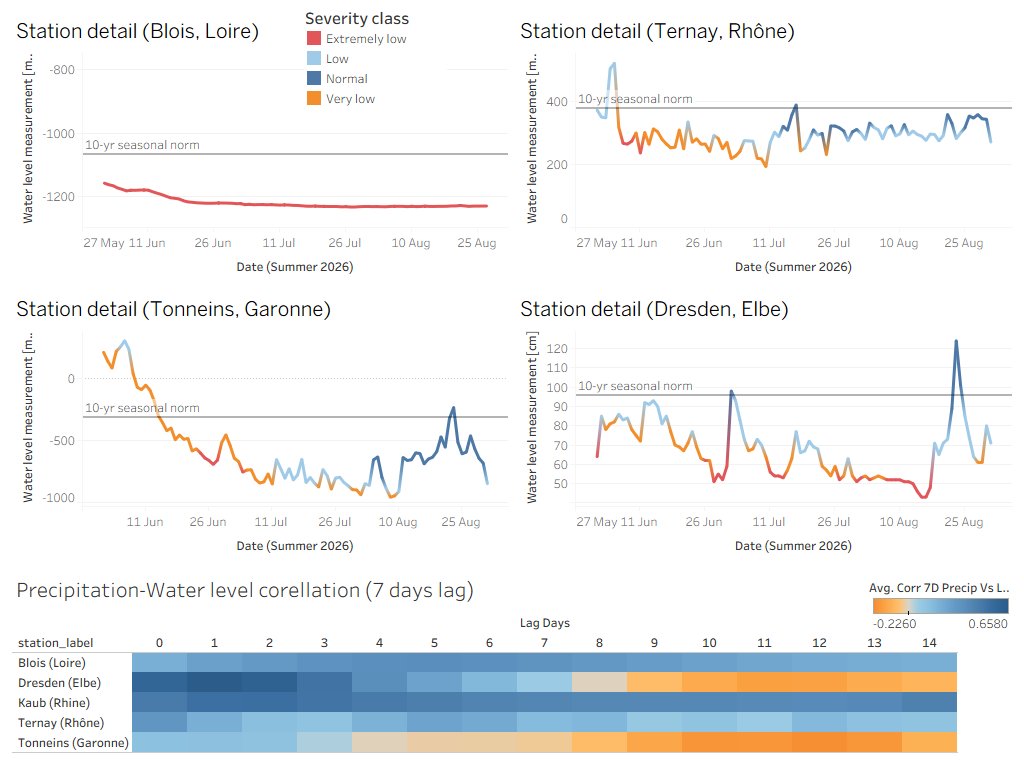

The dashboard page shown, as its layout file describes it:
{"tool":"tableau","page":{"name":"Stations and correlations","canvas":[1024,768],"ordinal":1},"visuals":[{"type":"legend","title":"Station detail (Ternay, Rhône)","param":"[federated.1kkefuv1phx1bi12ys0ko0iin6ix].[attr:severity_class:nk]","box":[304.1,4.8,143.4,105.6]},{"type":"worksheet","title":"Station detail (Blois, Loire)","mark":"Line","rows":["value"],"cols":["date"],"box":[8,8,504,278.5]},{"type":"worksheet","title":"Station detail (Ternay, Rhône)","mark":"Line","rows":["value"],"cols":["date"],"box":[512,8,504,278.5]},{"type":"worksheet","title":"Station detail (Tonneins, Garonne)","mark":"Line","rows":["value"],"cols":["date"],"box":[8,286.5,504,278.5]},{"type":"worksheet","title":"Station detail (Dresden, Elbe)","mark":"Line","rows":["value"],"cols":["date"],"box":[512,286.5,504,278.5]},{"type":"worksheet","title":"precip-w_level correlation","mark":"Automatic","rows":["Calculation_0720775307001856"],"cols":["lag_days"],"box":[8,565,1008,195]},{"type":"legend","title":"precip-w_level correlation","param":"[federated.1kkefuv1phx1bi12ys0ko0iin6ix].[avg:Calculation_2998689551704066:qk]","box":[869,575,144,55]}]}

Visuals, with their boxes in screenshot pixels (x1, y1, x2, y2), scaled from the page's 1024x768 canvas onto the 1024x768 screenshot:
"Station detail (Ternay, Rhône)" legend: [x1=304, y1=5, x2=448, y2=110]
"Station detail (Blois, Loire)" worksheet (Line marks): [x1=8, y1=8, x2=512, y2=286]
"Station detail (Ternay, Rhône)" worksheet (Line marks): [x1=512, y1=8, x2=1016, y2=286]
"Station detail (Tonneins, Garonne)" worksheet (Line marks): [x1=8, y1=286, x2=512, y2=565]
"Station detail (Dresden, Elbe)" worksheet (Line marks): [x1=512, y1=286, x2=1016, y2=565]
"precip-w_level correlation" worksheet: [x1=8, y1=565, x2=1016, y2=760]
"precip-w_level correlation" legend: [x1=869, y1=575, x2=1013, y2=630]
